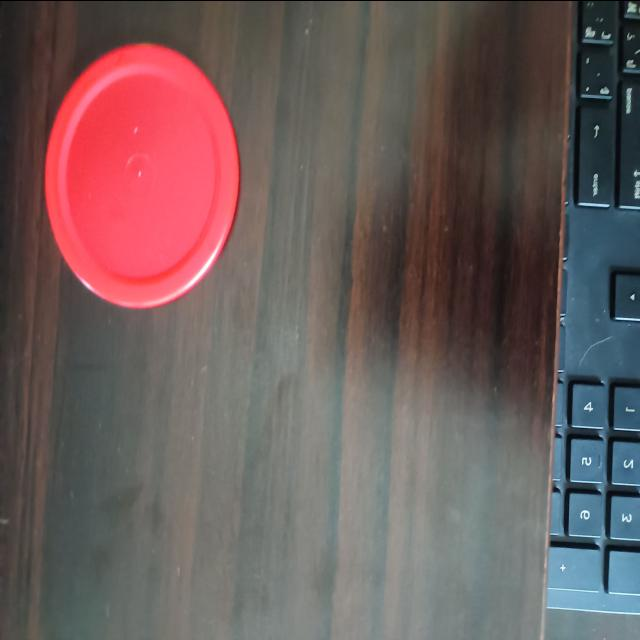chip: (42, 34, 248, 314)
